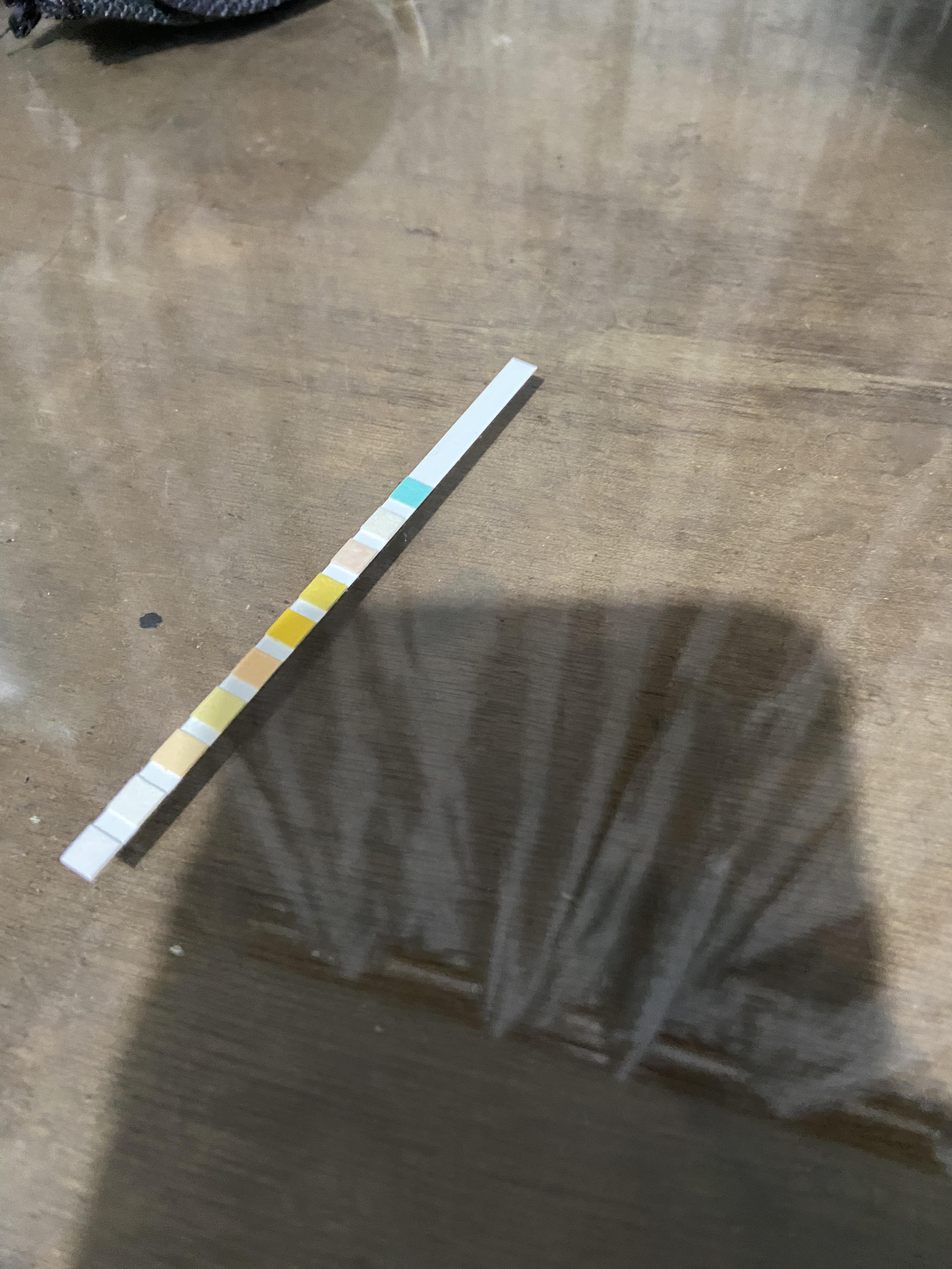Bilirubin: (369, 518, 399, 530)
Blood: (277, 619, 302, 639)
Glucose: (400, 485, 423, 502)
Ketone: (340, 550, 367, 567)
Leukocytes: (77, 838, 104, 866)
Nitrite: (119, 792, 148, 815)
Protein: (205, 699, 234, 719)
SpGravity: (308, 585, 336, 602)
Urobilinogen: (163, 742, 196, 762)
pH: (245, 657, 268, 679)
strip: (60, 358, 539, 883)
